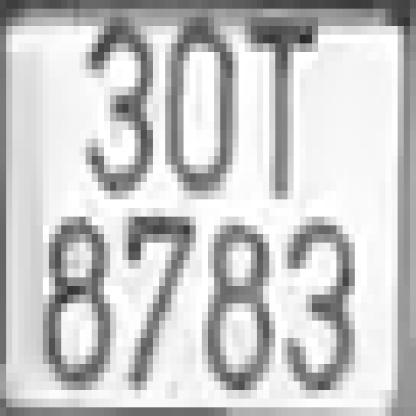0: (165, 26, 233, 199)
3: (275, 217, 349, 381), (86, 26, 153, 199)
7: (128, 208, 190, 373)
8: (43, 208, 110, 381), (202, 216, 269, 372)
T: (245, 18, 312, 200)
